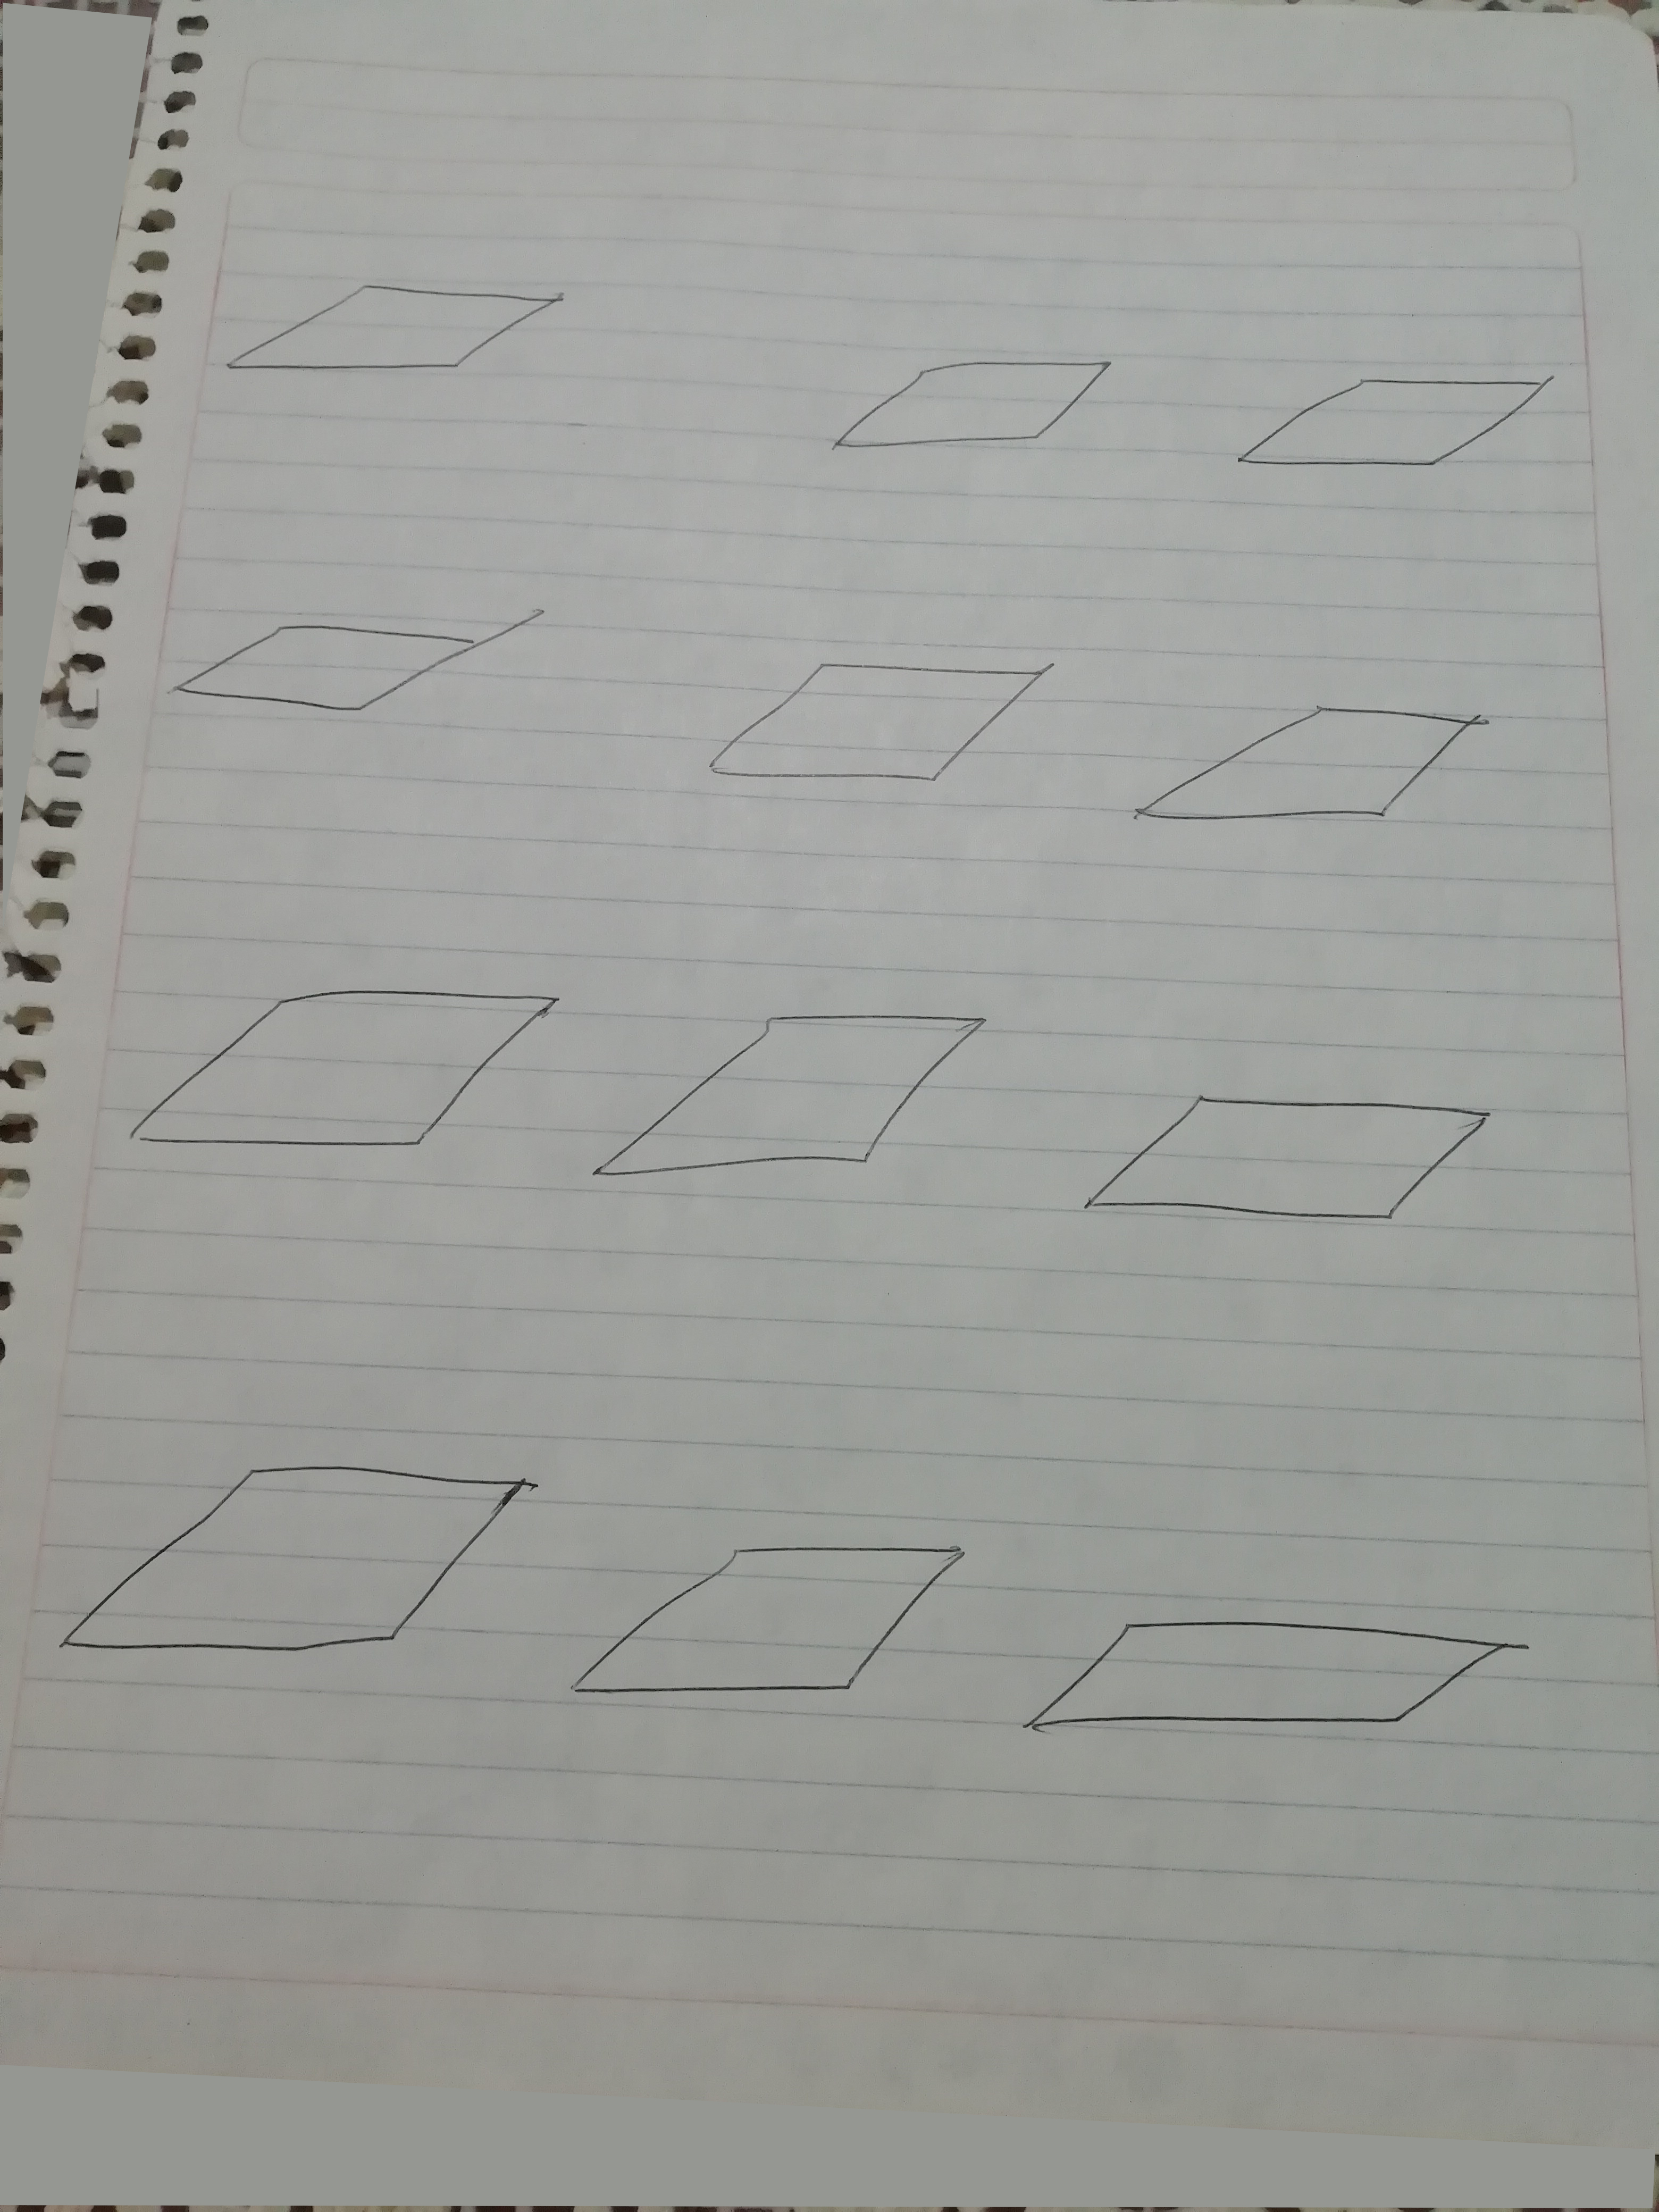scan: (47, 1404, 565, 1766), (1006, 1564, 1558, 1815), (101, 946, 565, 1216), (565, 1482, 976, 1777), (572, 982, 1016, 1219), (1054, 1045, 1530, 1258), (671, 617, 1091, 843), (139, 571, 591, 777), (1115, 644, 1537, 864), (1204, 315, 1572, 535), (214, 233, 605, 428), (814, 301, 1154, 507)
